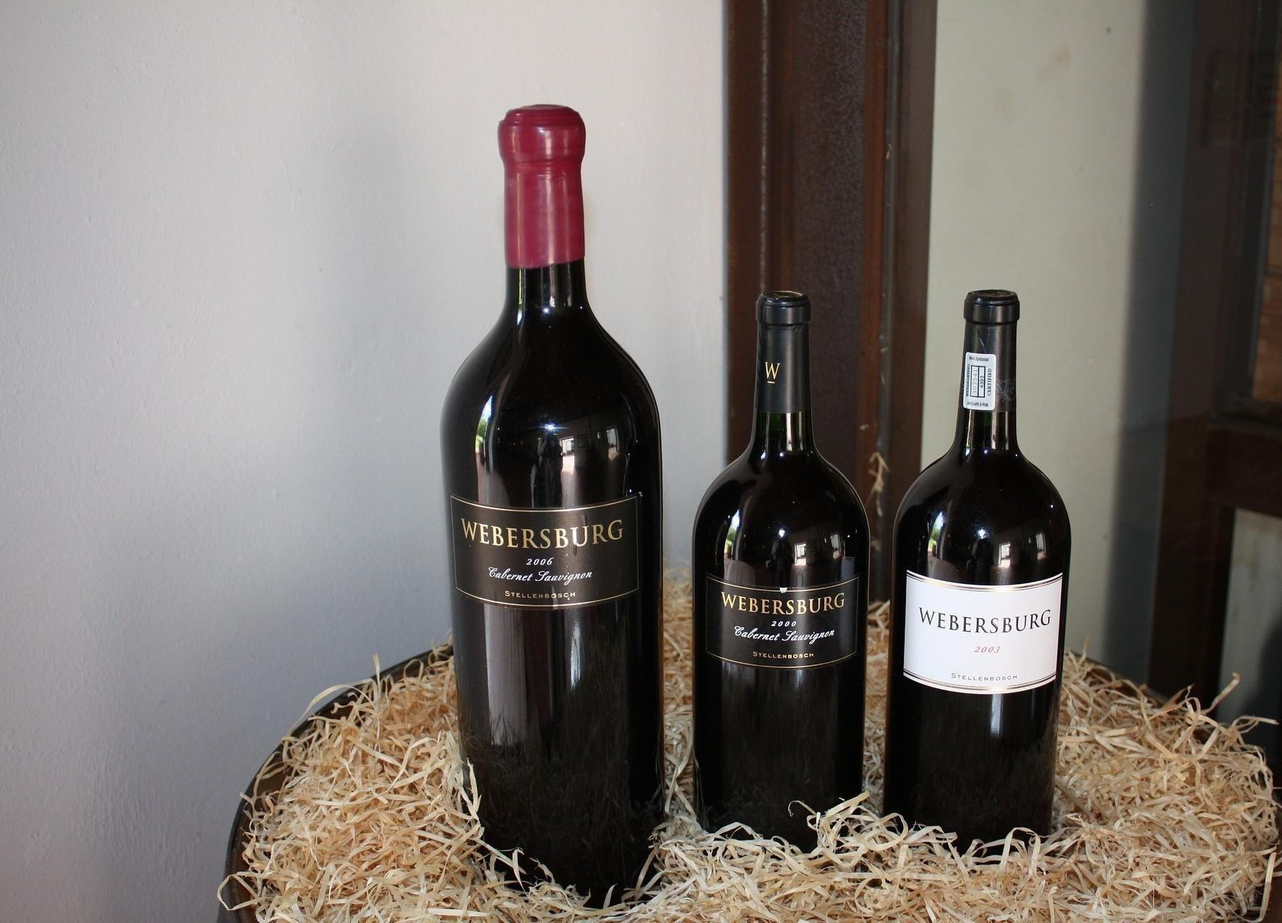bottle-glass: (439, 101, 667, 908), (886, 286, 1072, 859), (691, 285, 868, 846)
